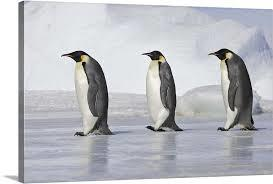emporer: (56, 45, 120, 142), (203, 44, 262, 135), (134, 44, 184, 136)
